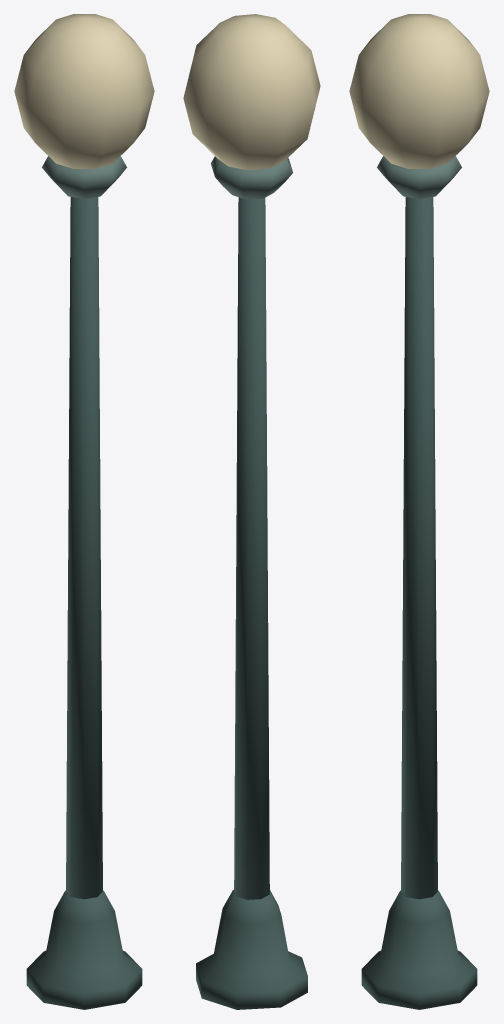
The model's file is alc_lamp.glb.
3 views of the same model, side by side, from view 1: azimuth 90°, elevation 25°; view 2: azimuth 210°, elevation 25°; view 3: azimuth 270°, elevation 25° (orthographic).
Visible parts, largest first — view 1: alc_lamp; view 2: alc_lamp; view 3: alc_lamp.
Part boxes in pixels (x1,y1,x2,y2): alc_lamp: (14,14,154,1009); alc_lamp: (183,14,320,1009); alc_lamp: (349,14,489,1009).
Bounding box in the file's own units: 0.4375 × 3.5 × 0.46.
